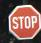Stop sign: (0, 0, 40, 42)
